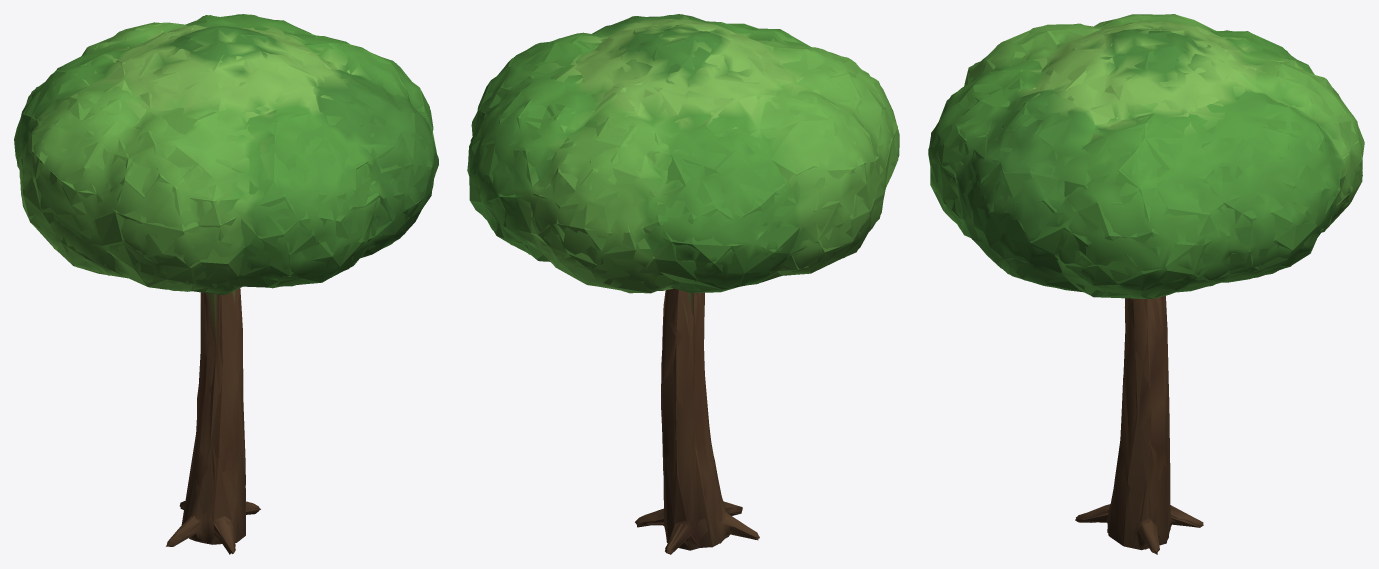
Rendered from broadleaf_mature_medium_rounded_healthy.glb.
3 views of the same model, side by side, from view 1: azimuth 30°, elevation 25°; view 2: azimuth 150°, elevation 25°; view 3: azimuth 270°, elevation 25° (orthographic).
Parts seen in each view (by area): view 1: broadleaf_mature_medium_rounded_healthy_LOD1, broadleaf_mature_medium_rounded_healthy_LOD2; view 2: broadleaf_mature_medium_rounded_healthy_LOD1, broadleaf_mature_medium_rounded_healthy_LOD2; view 3: broadleaf_mature_medium_rounded_healthy_LOD1, broadleaf_mature_medium_rounded_healthy_LOD2.
Part boxes in pixels (x1=…): broadleaf_mature_medium_rounded_healthy_LOD1: x1=14, y1=14, x2=438, y2=553; broadleaf_mature_medium_rounded_healthy_LOD2: x1=15, y1=14, x2=437, y2=554; broadleaf_mature_medium_rounded_healthy_LOD1: x1=467, y1=14, x2=899, y2=553; broadleaf_mature_medium_rounded_healthy_LOD2: x1=469, y1=14, x2=898, y2=554; broadleaf_mature_medium_rounded_healthy_LOD1: x1=928, y1=14, x2=1363, y2=553; broadleaf_mature_medium_rounded_healthy_LOD2: x1=928, y1=14, x2=1364, y2=554.
Bounding box in the file's own units: 3.3 × 4.13 × 3.24.
